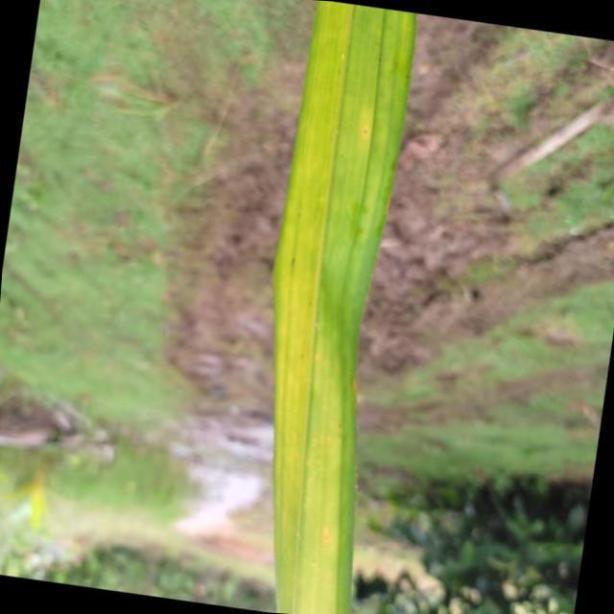nitrogen: (272, 0, 417, 614)
